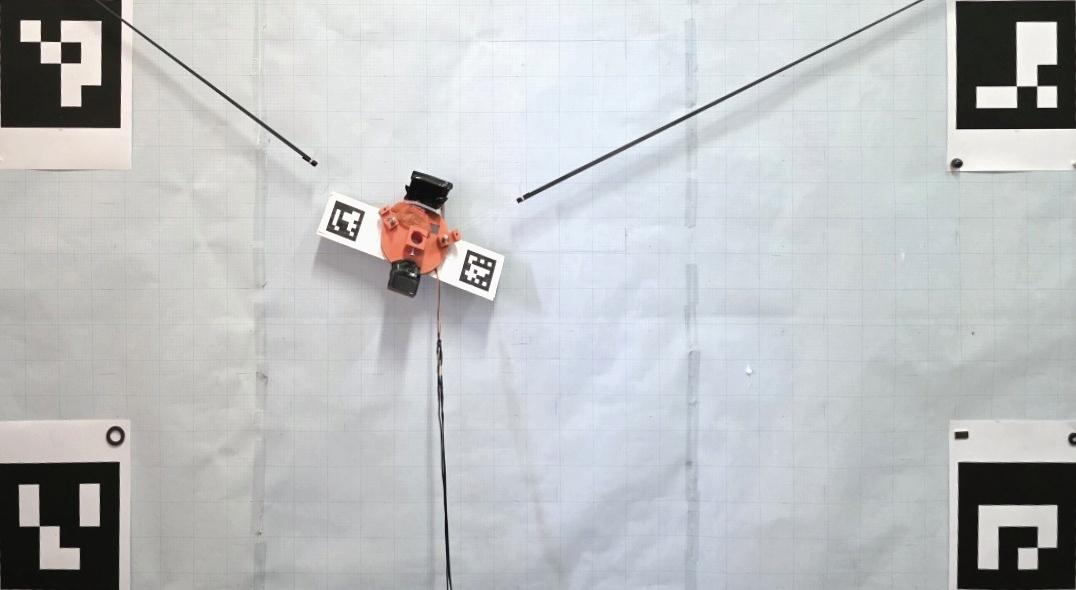robot: (377, 170, 463, 298)
